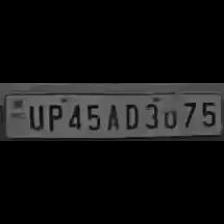0: (160, 101, 178, 128)
3: (141, 100, 159, 130)
4: (64, 101, 82, 131)
5: (196, 98, 218, 128), (82, 99, 102, 130)
7: (178, 100, 196, 128)
A: (103, 101, 120, 131)
D: (120, 99, 140, 130)
P: (44, 101, 64, 131)
U: (24, 101, 44, 131)
